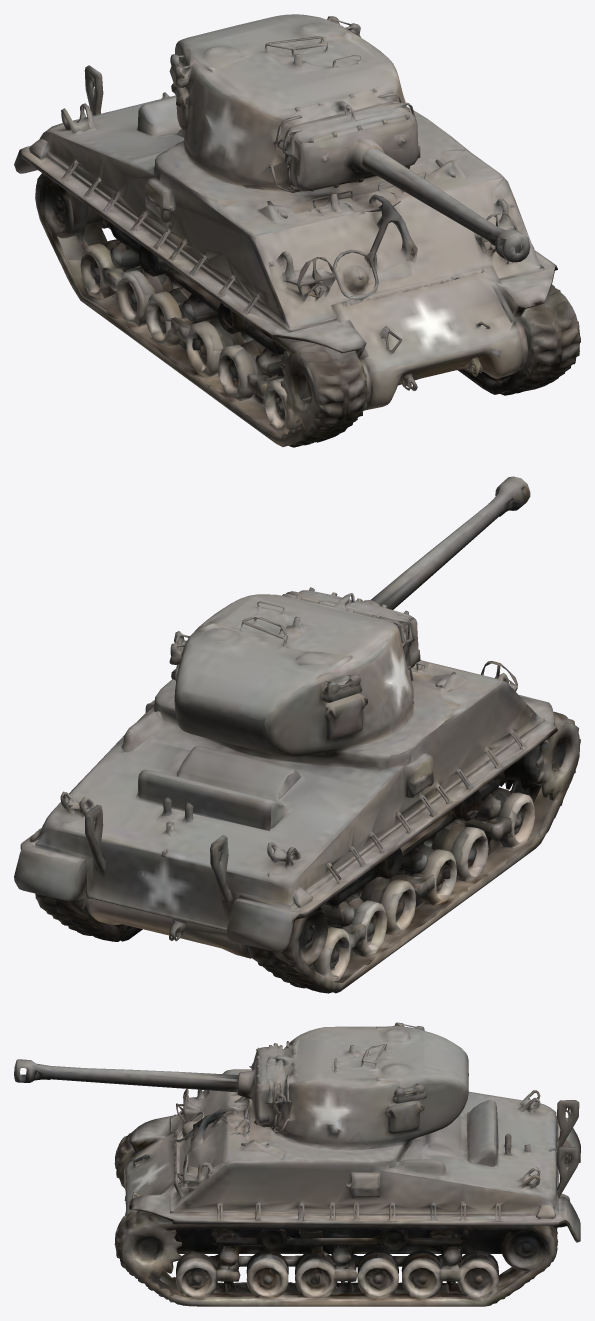
File: sher_opt.glb
3 renders of one model, top to bottom at view 1: azimuth 30°, elevation 25°; view 2: azimuth 150°, elevation 25°; view 3: azimuth 270°, elevation 25°, orthographic. The views are drawn at different scales.
Parts seen in each view (by area): view 1: node_0; view 2: node_0; view 3: node_0.
Boxes of the visible parts, x1,y1,x2,y2 form: node_0: (14,14,580,447); node_0: (14,476,580,993); node_0: (14,1022,580,1306).
Bounding box in the file's own units: 0.4897 × 0.4612 × 1.1.
1 material, 1 textured.
